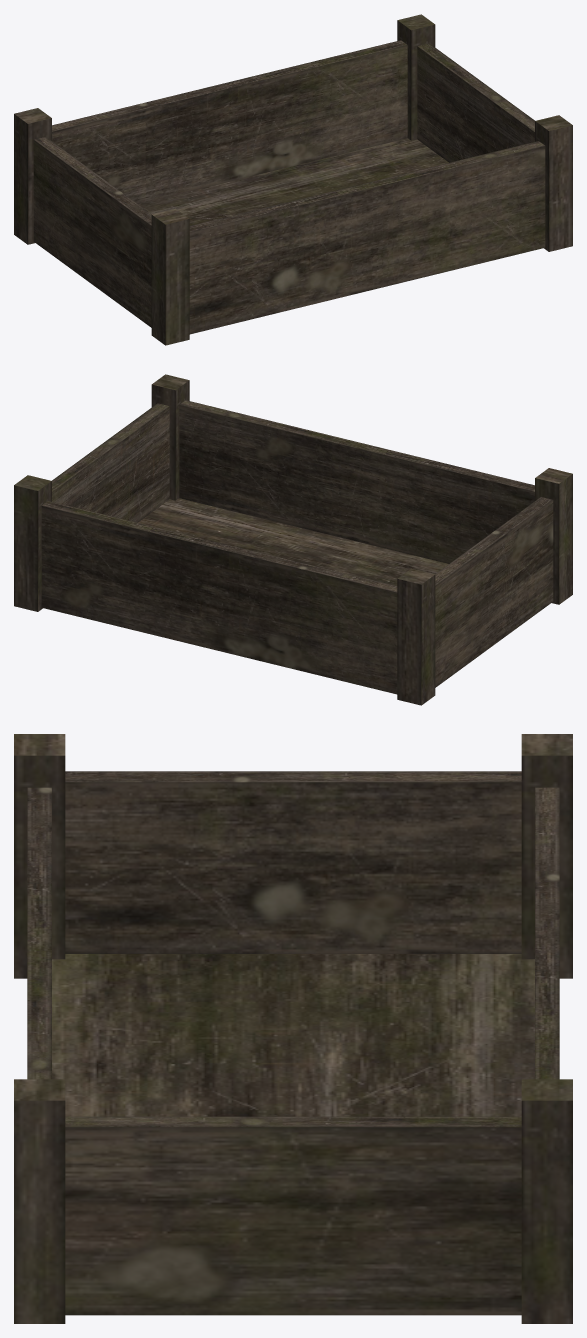
The model's file is Crate02.fbx.
The picture shows the model from 3 angles, top to bottom: view 1: azimuth 30°, elevation 25°; view 2: azimuth 150°, elevation 25°; view 3: azimuth 270°, elevation 25°; orthographic projection. The views are drawn at different scales.
Parts seen in each view (by area): view 1: Crate02; view 2: Crate02; view 3: Crate02.
Boxes of the visible parts, bbox=[...] form: Crate02: bbox=[14, 14, 572, 345]; Crate02: bbox=[14, 374, 572, 705]; Crate02: bbox=[14, 734, 572, 1323].
Bounding box in the file's own units: 80.13 × 22.73 × 51.61.
